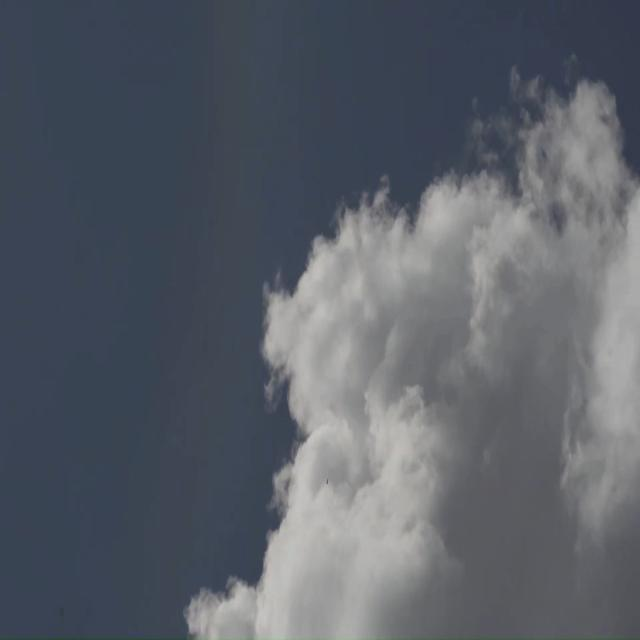Rocket: (326, 478, 328, 487)
